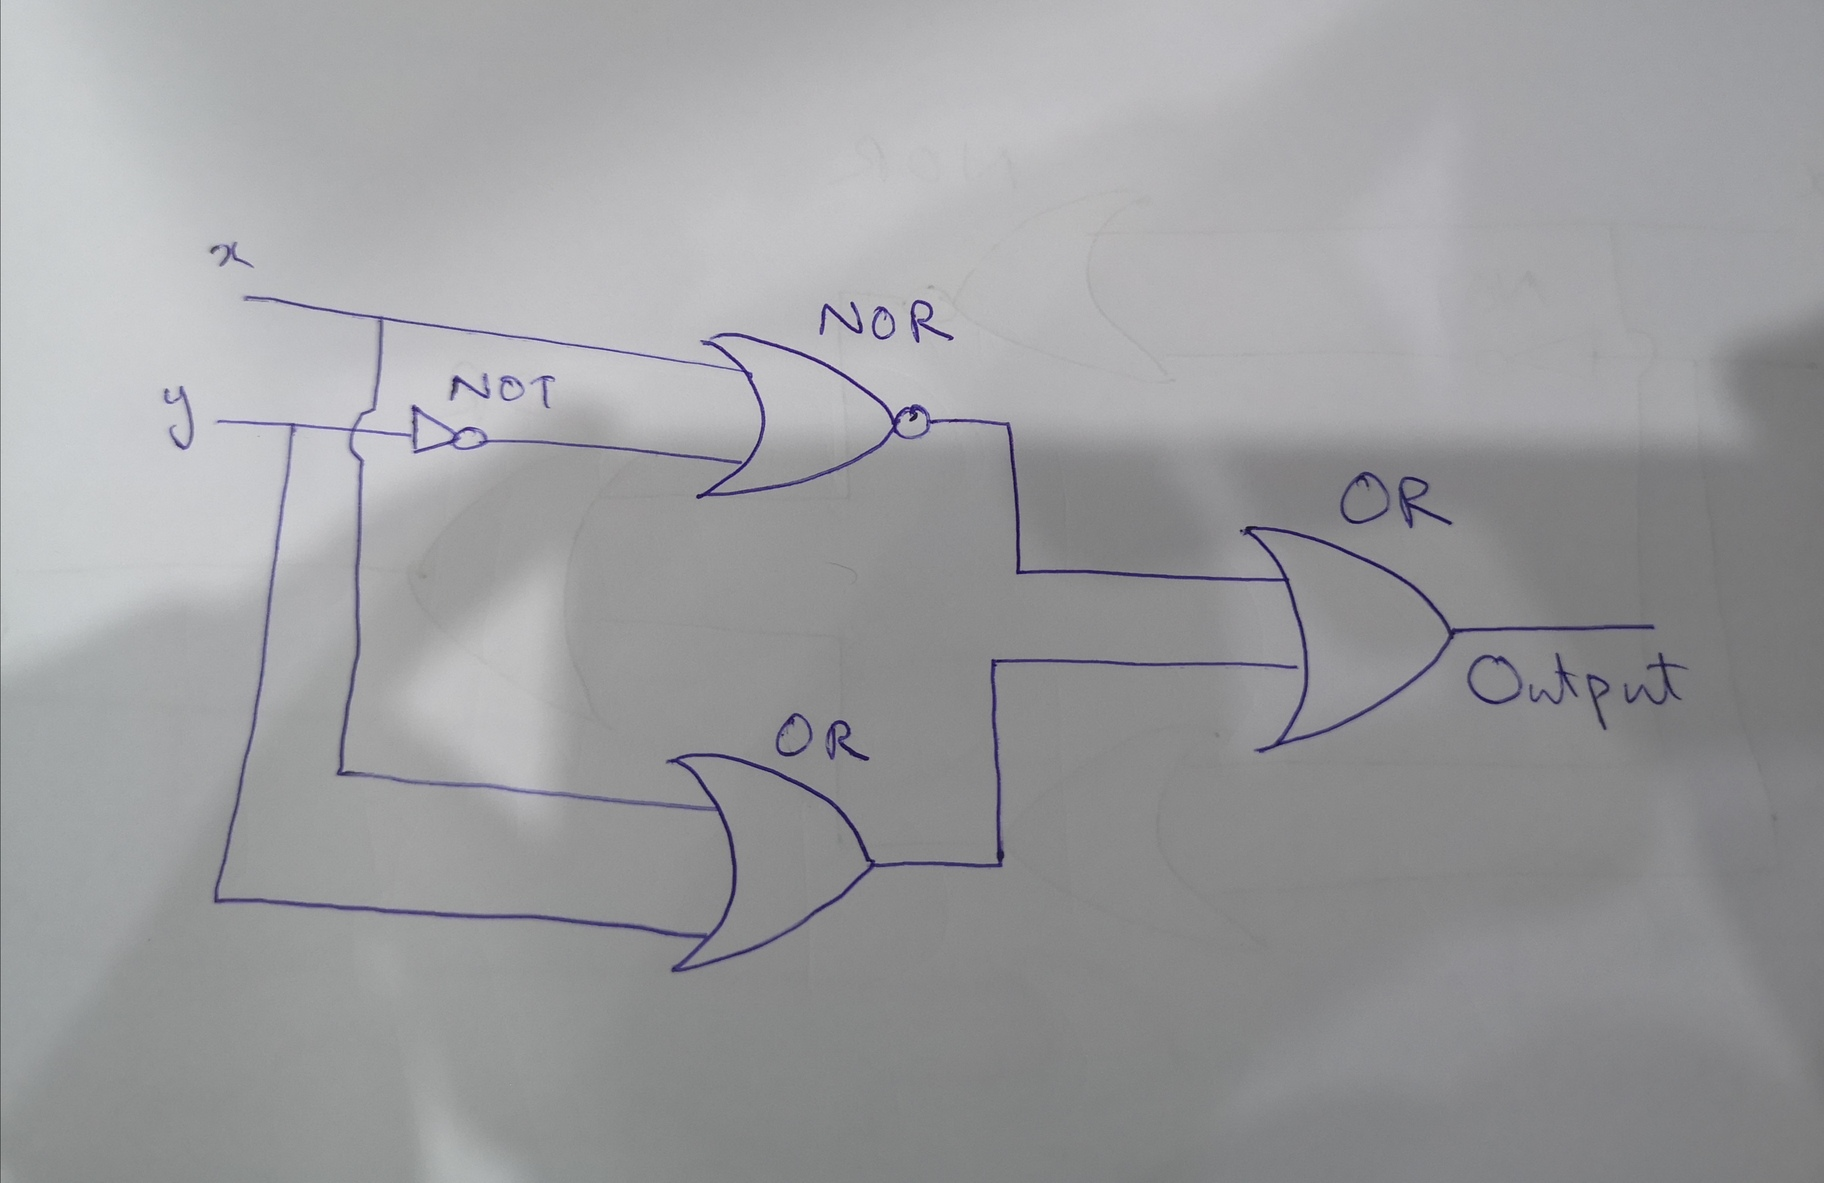crossover: (343, 401, 382, 467)
junction: (982, 843, 1017, 880), (988, 407, 1022, 441), (275, 413, 304, 439), (367, 304, 392, 330), (205, 887, 229, 911), (328, 762, 352, 786), (1009, 561, 1029, 581), (984, 650, 1002, 671)
nor: (689, 327, 940, 506)
not: (407, 401, 491, 459)
or: (1230, 518, 1466, 762), (654, 744, 885, 977)
terminal: (1642, 617, 1662, 635), (207, 413, 229, 429), (234, 290, 254, 304)
text: (1460, 641, 1694, 735), (1336, 467, 1457, 537), (820, 294, 959, 352), (439, 370, 561, 421), (771, 708, 873, 768), (160, 383, 199, 455), (207, 238, 257, 269)
